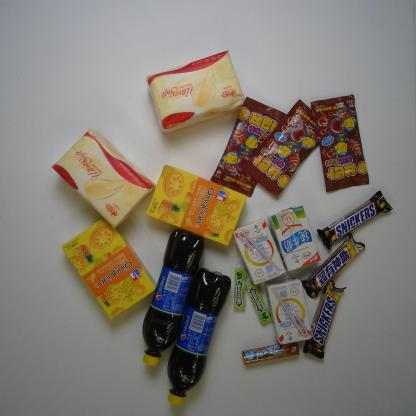Candy: (211, 96, 295, 198), (245, 99, 328, 194), (306, 94, 374, 192), (239, 341, 301, 364)
Chocolate: (312, 190, 401, 248), (301, 236, 370, 297), (303, 283, 357, 358)
Dessert: (57, 218, 156, 322), (140, 163, 250, 246)
Drink: (167, 265, 238, 411), (140, 230, 200, 368)
Gum: (242, 281, 274, 328), (228, 268, 254, 308)
Milk: (230, 218, 290, 284), (270, 201, 324, 273), (266, 282, 314, 345)
Tissue: (51, 130, 151, 225), (144, 50, 256, 133)
